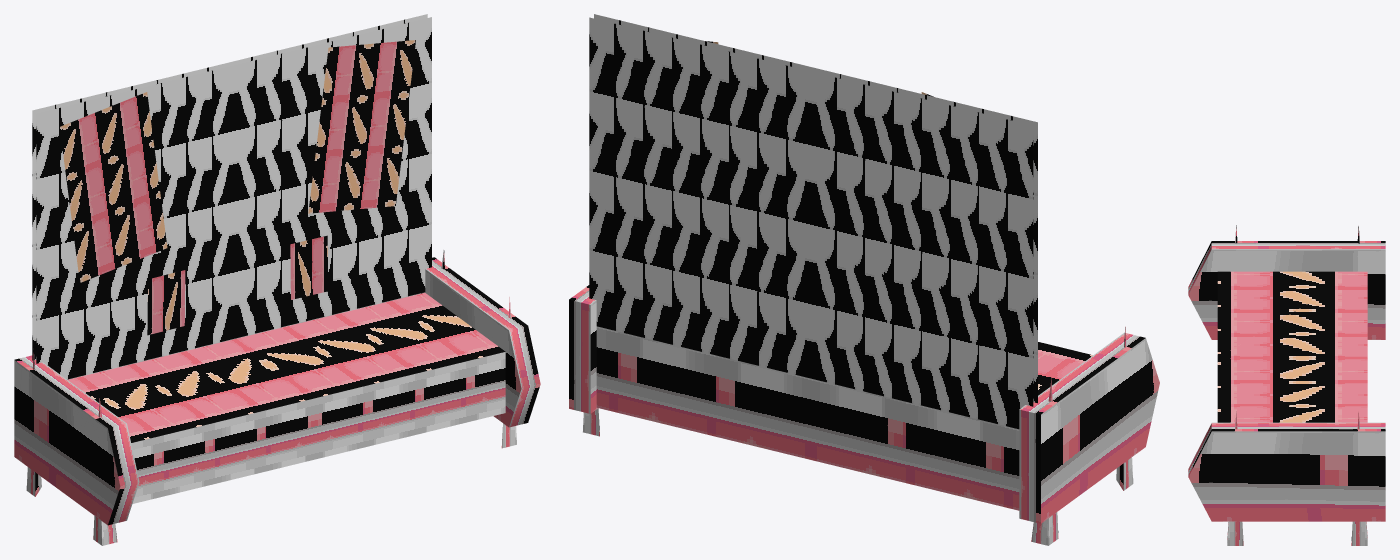
The model's file is 3840kg3_ser21.gltf.
3 renders of one model, left to right at view 1: azimuth 30°, elevation 25°; view 2: azimuth 150°, elevation 25°; view 3: azimuth 270°, elevation 25°, orthographic. The views are drawn at different scales.
Parts seen in each view (by area): view 1: 3840kg3_ser21; view 2: 3840kg3_ser21; view 3: 3840kg3_ser21.
Boxes of the visible parts, bbox=[...] form: 3840kg3_ser21: bbox=[14, 14, 540, 545]; 3840kg3_ser21: bbox=[569, 14, 1159, 545]; 3840kg3_ser21: bbox=[1188, 225, 1385, 545].
Bounding box in the file's own units: 1.92 × 1.64 × 0.8394.
Materials: 3 (3 with a texture image).
